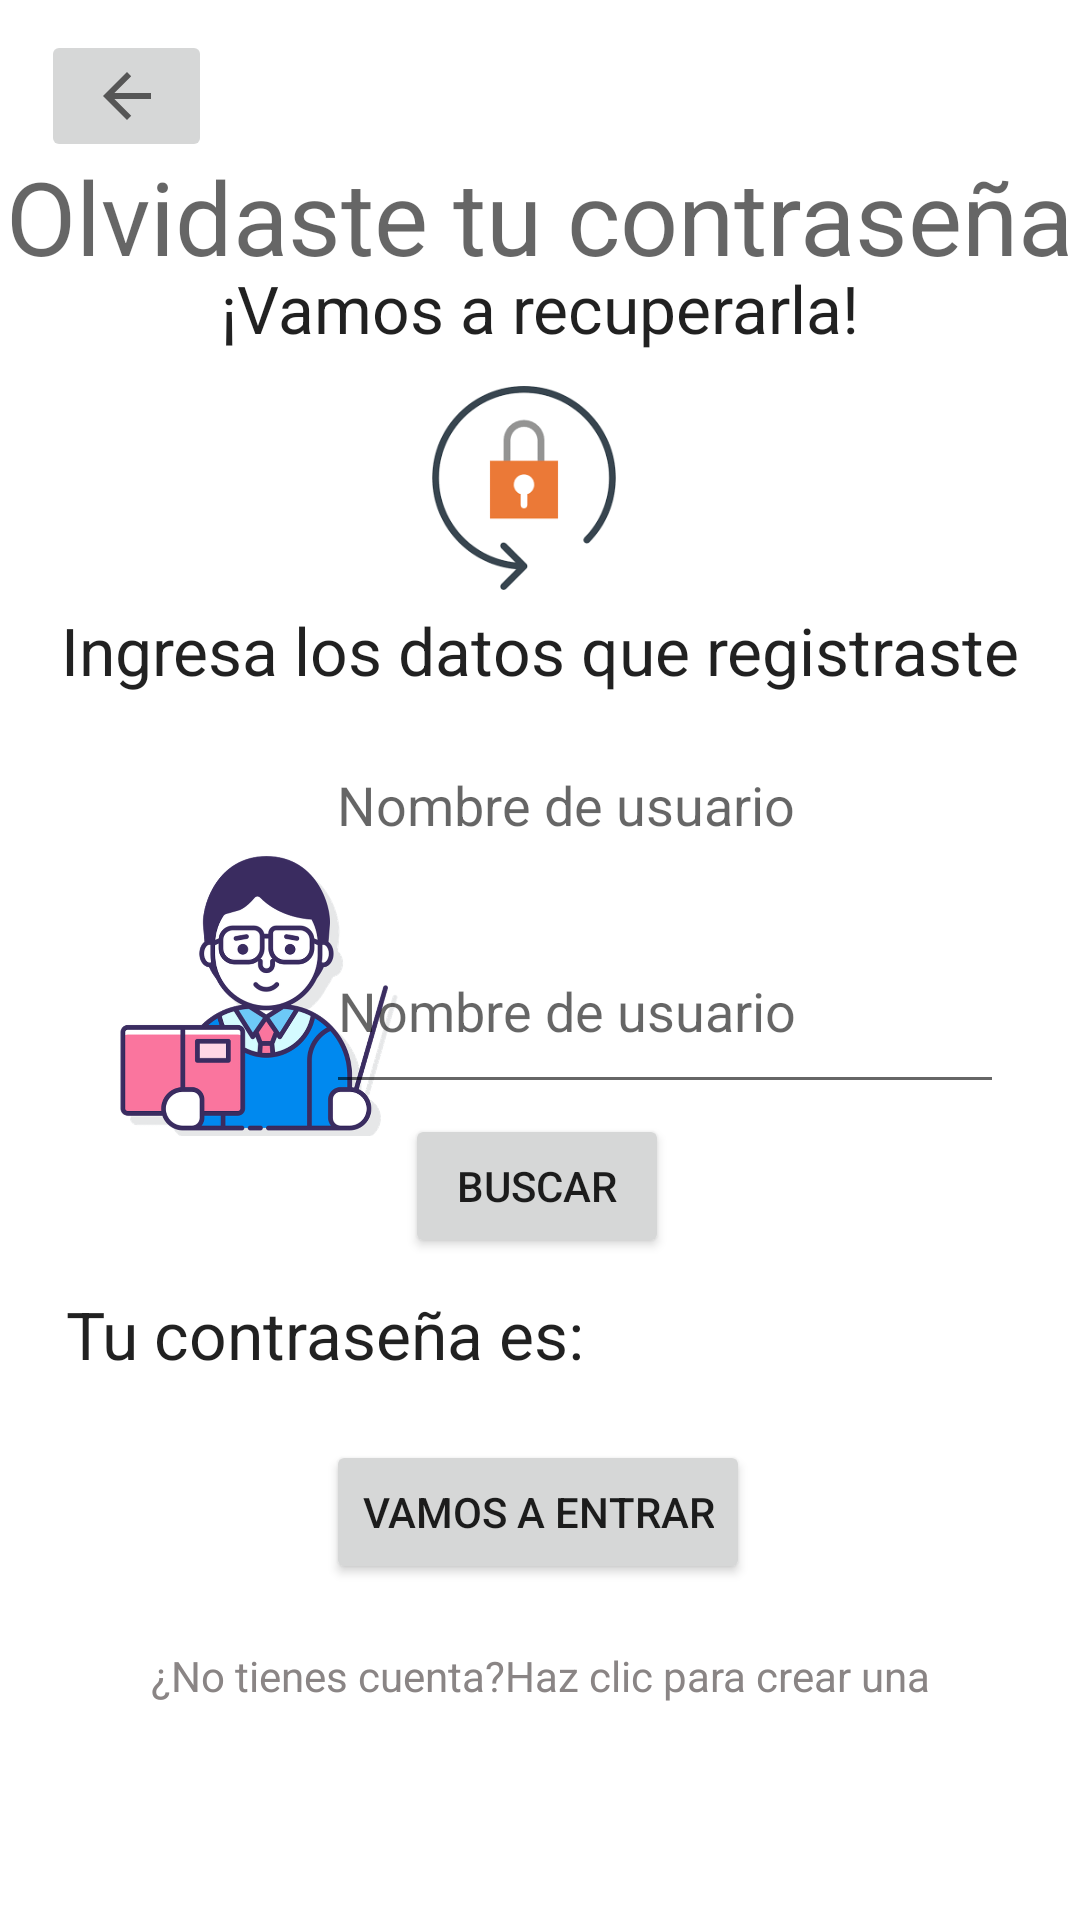

Icons on this 1080w x 1920h Android screen, each with the point to tap as [x,y]:
maestro: [259,996]
